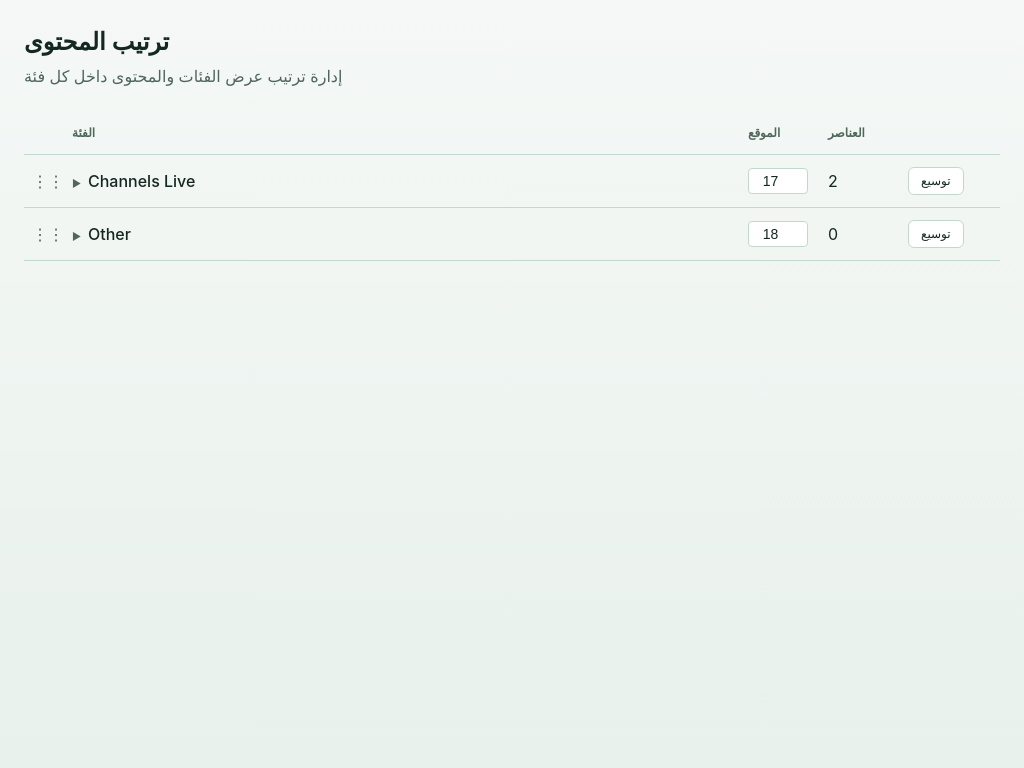
Test: Content Sorting on a live category (spec §8) › renders in Arabic
Click the text "Channels Live": click(142, 181) [88, 171, 195, 191]
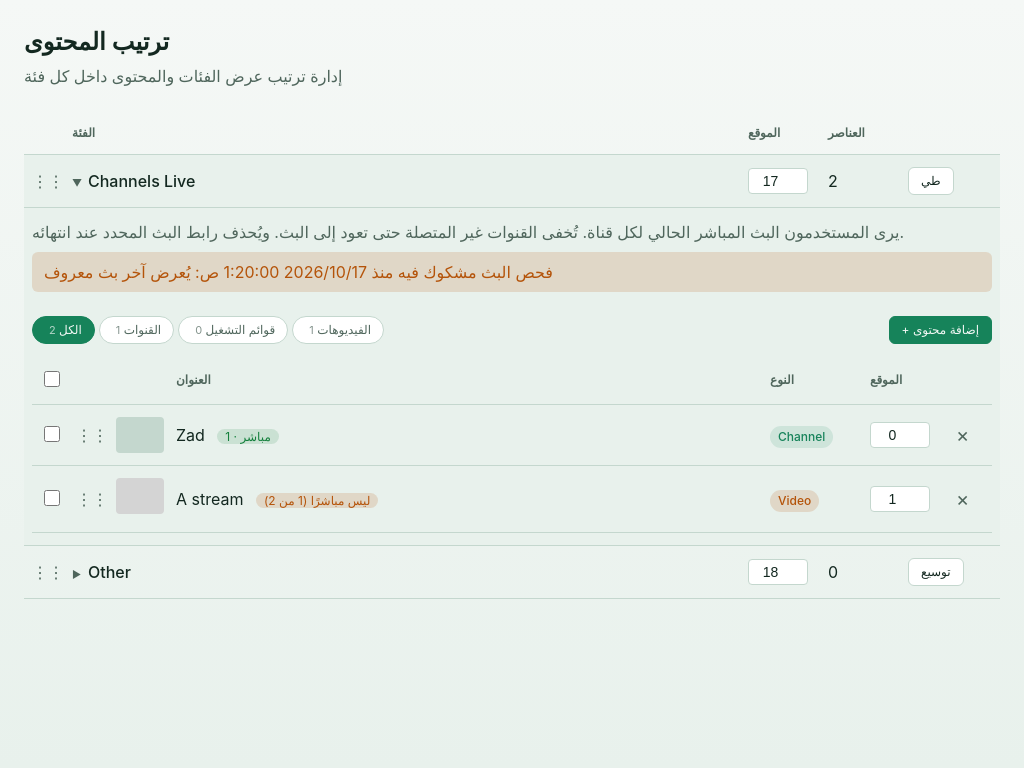
Expected: the text "يرى المستخدمون البث المباشر الحالي" is shown, [32, 222, 904, 242]
